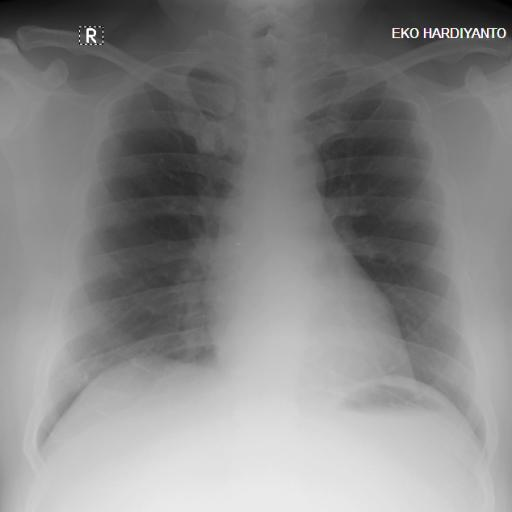kardiomegali: (28, 27, 499, 474)
